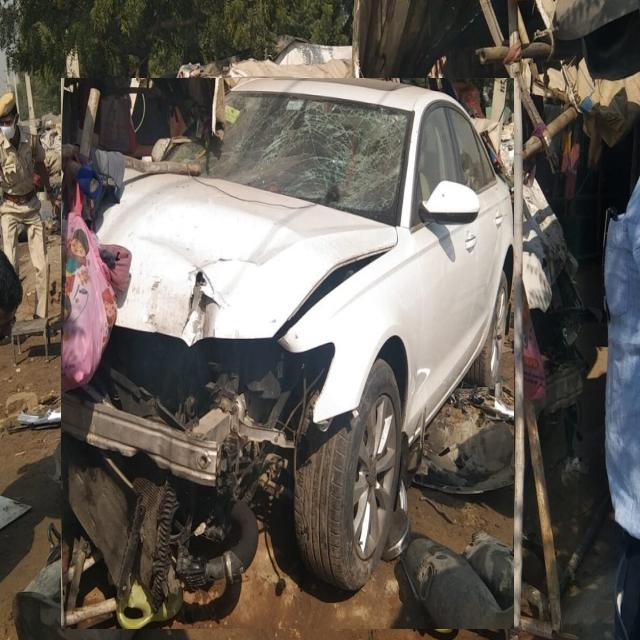accident: (61, 79, 514, 629)
